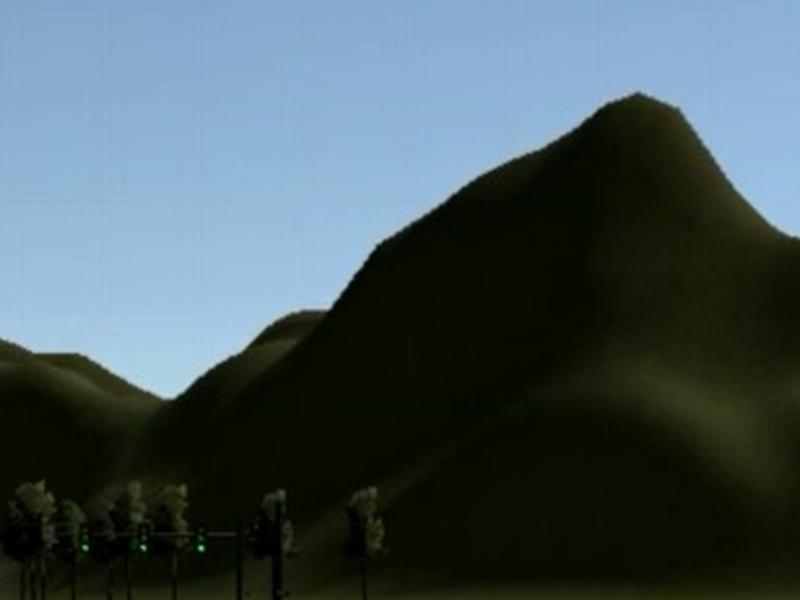Green: (137, 524, 150, 554), (79, 523, 91, 555), (195, 523, 207, 554)
